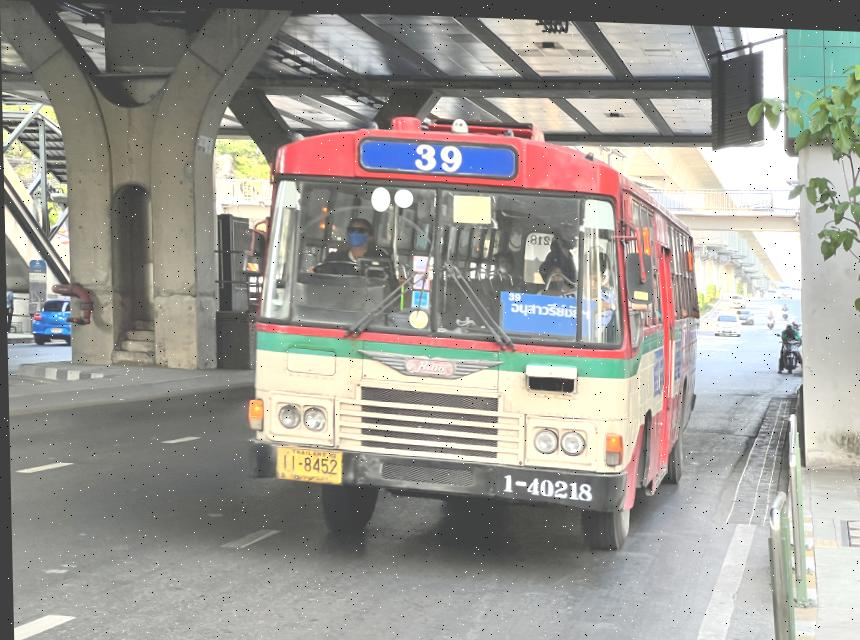BMTA-bus: (247, 114, 699, 554)
Bus Line Number: (356, 134, 521, 179)
Bus Side Number: (496, 465, 594, 504)
Destination Sign: (497, 284, 598, 337)
